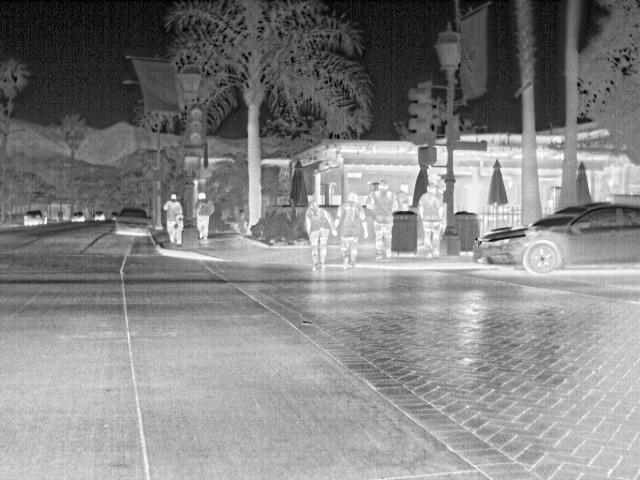car: (472, 200, 639, 274), (111, 205, 155, 239), (22, 208, 49, 228), (70, 209, 88, 225), (94, 209, 108, 223)
person: (332, 192, 368, 268), (304, 198, 338, 272), (368, 179, 398, 260), (416, 184, 445, 258), (162, 192, 183, 248), (192, 192, 216, 240), (394, 183, 410, 209)
